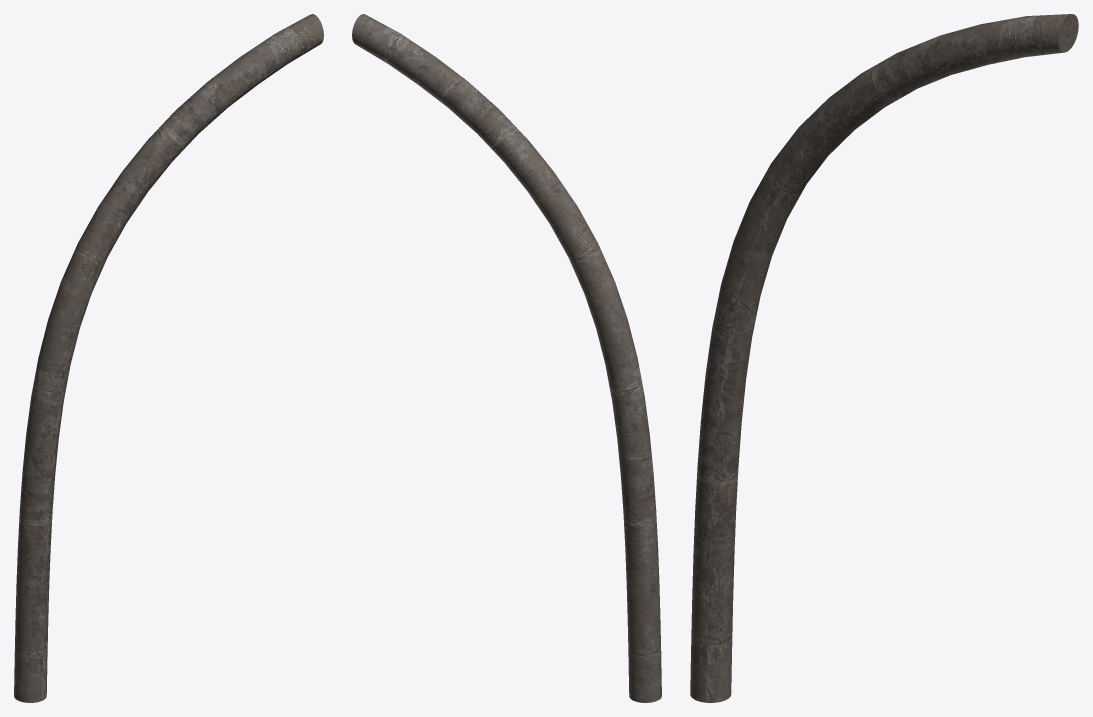
The model's file is ArcSingle8x16NoWall.fbx.
3 renders of one model, left to right at view 1: azimuth 30°, elevation 25°; view 2: azimuth 150°, elevation 25°; view 3: azimuth 330°, elevation 25°, orthographic. The views are drawn at different scales.
Visible parts, largest first — view 1: Trim_Arc_single_8x16_noWall; view 2: Trim_Arc_single_8x16_noWall; view 3: Trim_Arc_single_8x16_noWall.
Boxes of the visible parts, x1,y1,x2,y2 form: Trim_Arc_single_8x16_noWall: (14, 14, 323, 702); Trim_Arc_single_8x16_noWall: (352, 14, 661, 702); Trim_Arc_single_8x16_noWall: (690, 14, 1078, 702).
Bounding box in the file's own units: 840 × 1637 × 80.
